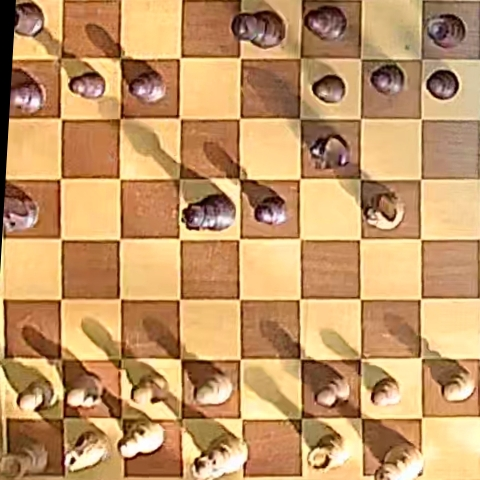black-bishop: (305, 5, 347, 41)
black-king: (232, 10, 284, 48)
black-knight: (309, 134, 349, 168), (5, 193, 39, 232)
black-pawn: (11, 81, 46, 114), (130, 71, 166, 103), (370, 64, 405, 96), (69, 71, 105, 99), (426, 69, 459, 99), (312, 75, 346, 103), (255, 196, 287, 225)
black-queen: (183, 195, 235, 230)
black-rook: (425, 13, 466, 48), (14, 2, 43, 37)
white-bishop: (119, 419, 164, 459)
white-king: (377, 443, 423, 479)
white-knight: (66, 429, 111, 473), (363, 187, 404, 230)
white-pawn: (191, 373, 235, 406), (65, 373, 102, 410), (315, 373, 351, 408), (17, 380, 56, 412), (131, 373, 169, 405), (443, 370, 476, 402), (371, 378, 401, 407)
white-queen: (191, 433, 247, 480)
white-rook: (1, 437, 48, 478), (308, 429, 349, 473)
